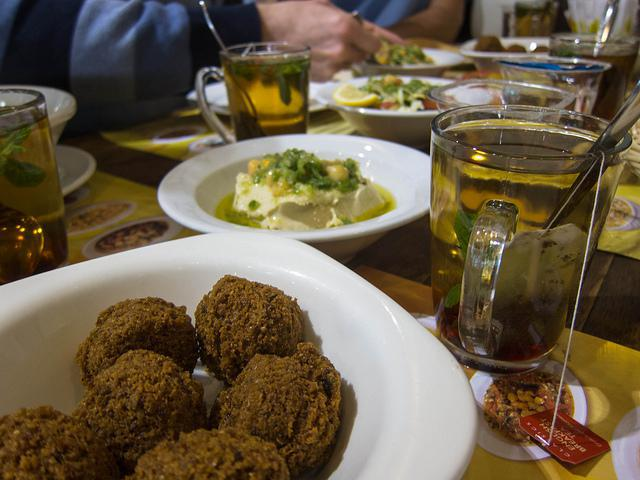hand: (257, 1, 412, 77)
